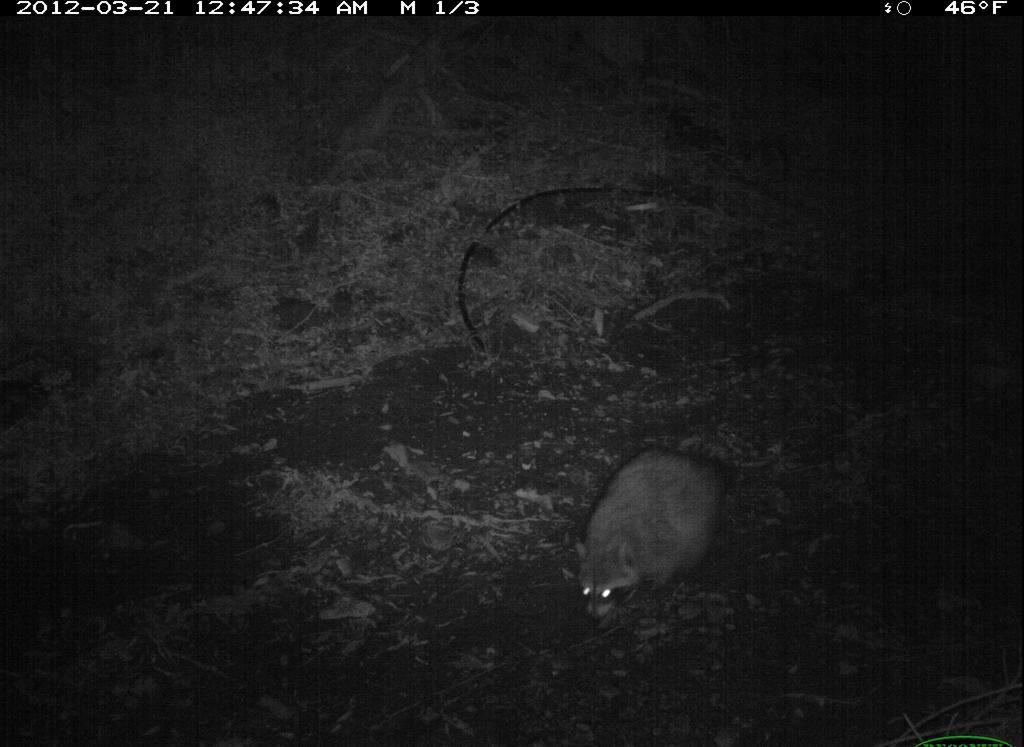raccoon: (571, 432, 757, 632)
